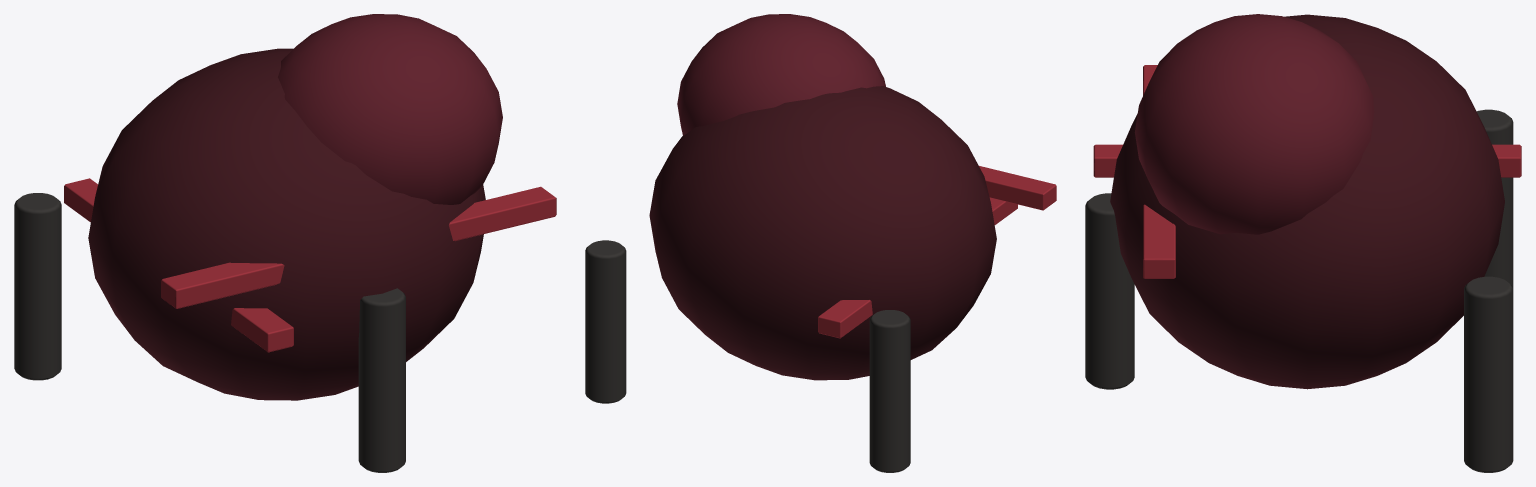
The model's file is heart.d88cc5c0.glb.
The picture shows the model from 3 angles, left to right: view 1: azimuth 30°, elevation 25°; view 2: azimuth 150°, elevation 25°; view 3: azimuth 270°, elevation 25°; orthographic projection. The views are drawn at different scales.
Visible parts, largest first — view 1: body; view 2: body; view 3: body.
Part boxes in pixels (x1,y1,x2,y2): body: [14, 14, 556, 472]; body: [585, 14, 1056, 472]; body: [1085, 14, 1521, 472].
Size of the model in its own units: 2.8 by 2.6 by 2.65.
